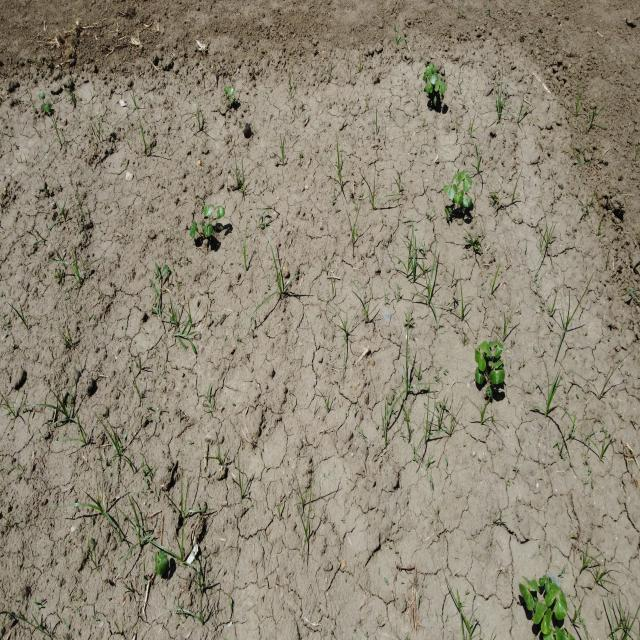seedling_s3: (555, 589, 568, 620), (519, 584, 534, 610), (533, 602, 548, 625), (545, 584, 560, 606), (541, 607, 551, 634), (443, 174, 457, 193), (523, 577, 539, 593), (489, 370, 505, 385), (478, 340, 491, 358), (475, 350, 486, 371), (158, 551, 167, 574), (475, 367, 485, 383), (462, 175, 472, 191), (448, 184, 457, 200), (489, 359, 503, 369), (458, 171, 466, 187), (155, 552, 160, 576), (494, 344, 502, 358), (435, 78, 443, 91), (462, 197, 472, 207), (425, 65, 435, 75), (203, 206, 212, 217), (216, 208, 225, 219), (206, 224, 213, 237), (425, 83, 433, 94), (454, 194, 462, 204), (440, 81, 446, 94), (429, 74, 436, 85), (433, 67, 439, 79), (545, 579, 550, 593), (43, 104, 51, 112), (540, 578, 547, 587), (190, 226, 195, 238), (214, 205, 222, 211), (193, 222, 198, 231), (39, 93, 45, 99), (204, 225, 208, 234), (457, 191, 463, 197), (423, 74, 427, 83), (228, 88, 233, 95), (230, 97, 233, 104), (225, 88, 228, 94)
